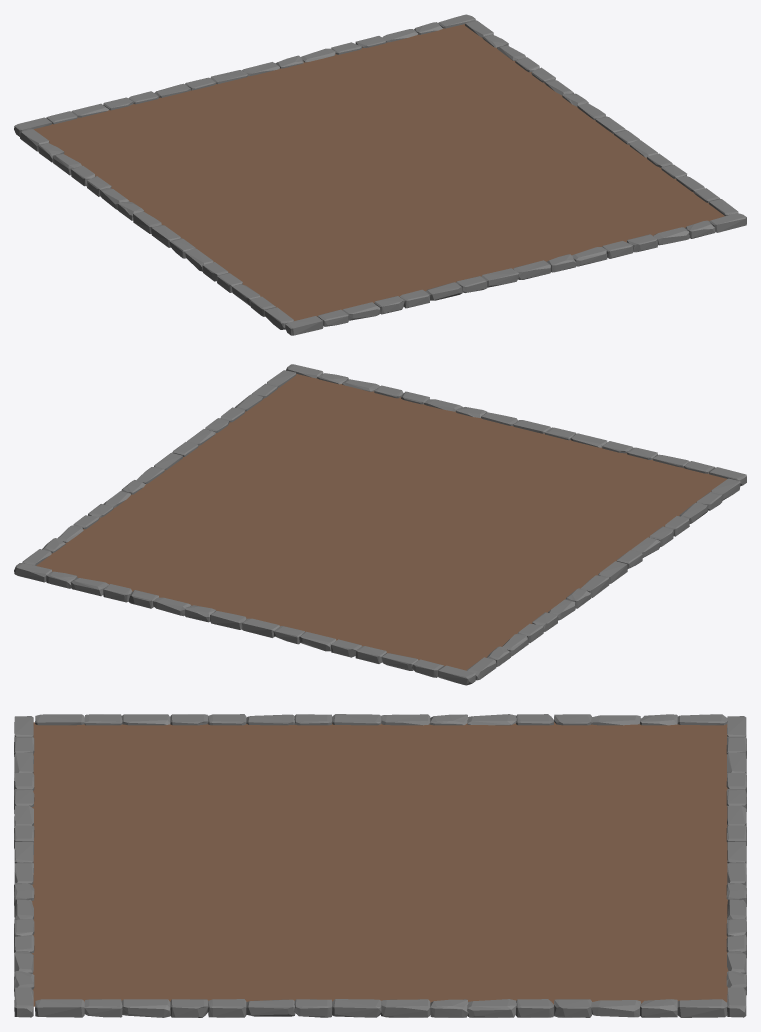
Rendered from SM_sidewalk_01.fbx.
3 renders of one model, top to bottom at view 1: azimuth 30°, elevation 25°; view 2: azimuth 150°, elevation 25°; view 3: azimuth 270°, elevation 25°, orthographic. The views are drawn at different scales.
Parts seen in each view (by area): view 1: Object32455; view 2: Object32455; view 3: Object32455.
Boxes of the visible parts, x1,y1,x2,y2 form: Object32455: (14,14,746,335); Object32455: (14,364,746,685); Object32455: (14,714,746,1017).
Size of the model in its own units: 565 by 9.86 by 596.
